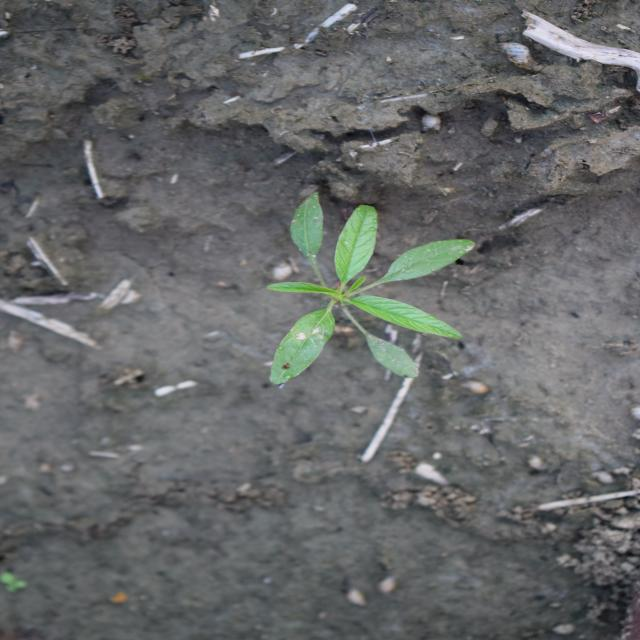Waterhemp: (262, 189, 479, 388)
